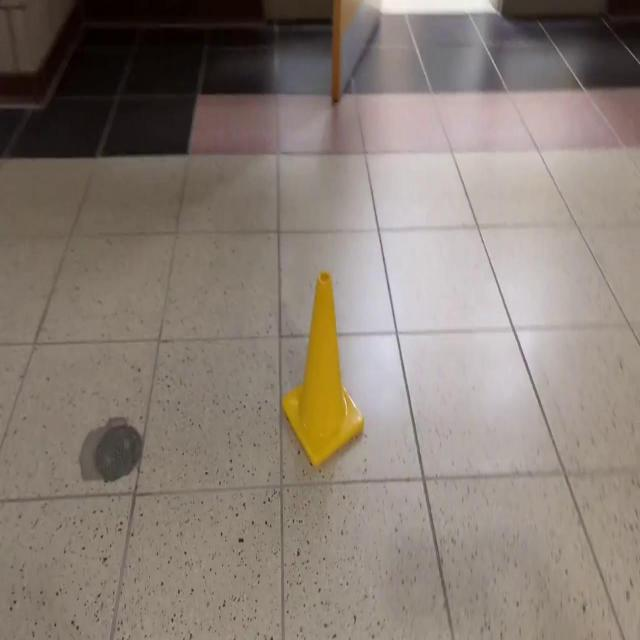frc_cone: (279, 260, 377, 472)
